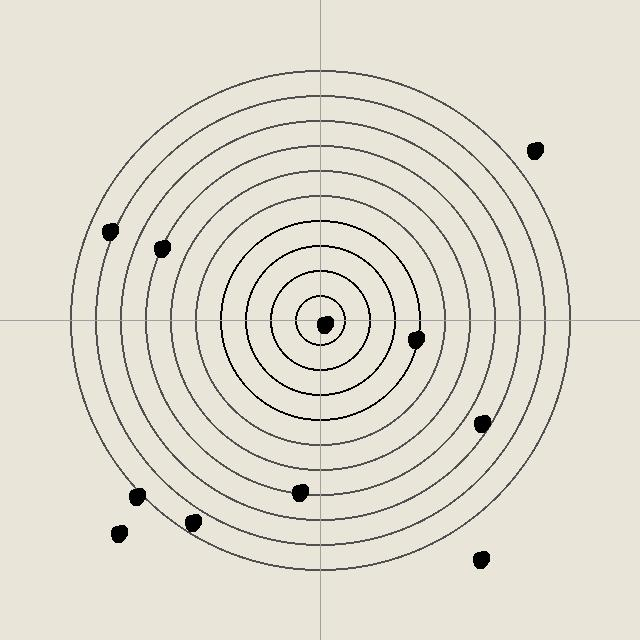random_scatter: (470, 549, 490, 569), (151, 238, 171, 258), (108, 523, 128, 543), (99, 221, 119, 241), (471, 413, 491, 433), (126, 486, 146, 506), (524, 140, 544, 160), (405, 329, 425, 349), (289, 482, 309, 502), (314, 314, 334, 334), (182, 512, 202, 532)
